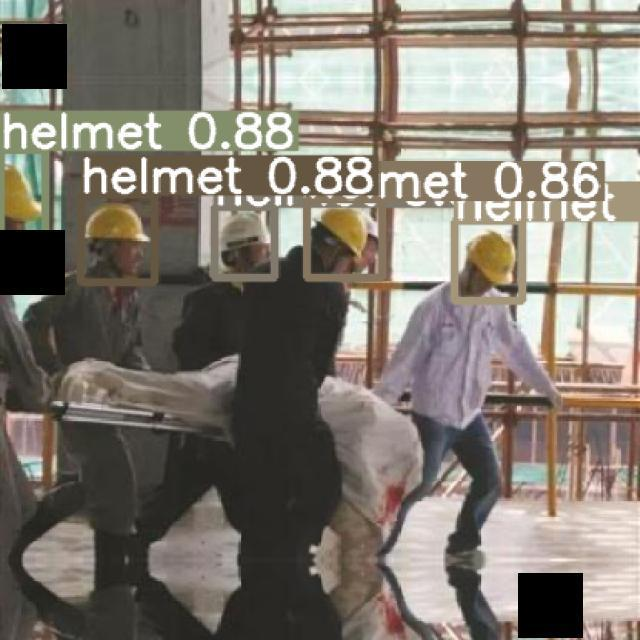white helmet: (211, 208, 271, 266)
yellow helmet: (314, 181, 374, 259), (464, 224, 526, 296), (73, 203, 161, 251), (1, 151, 53, 226)
